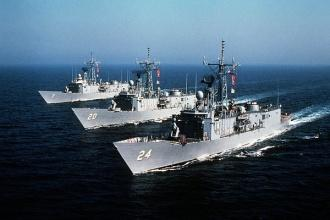warship: (100, 37, 295, 175), (71, 56, 202, 131), (35, 53, 138, 105)
